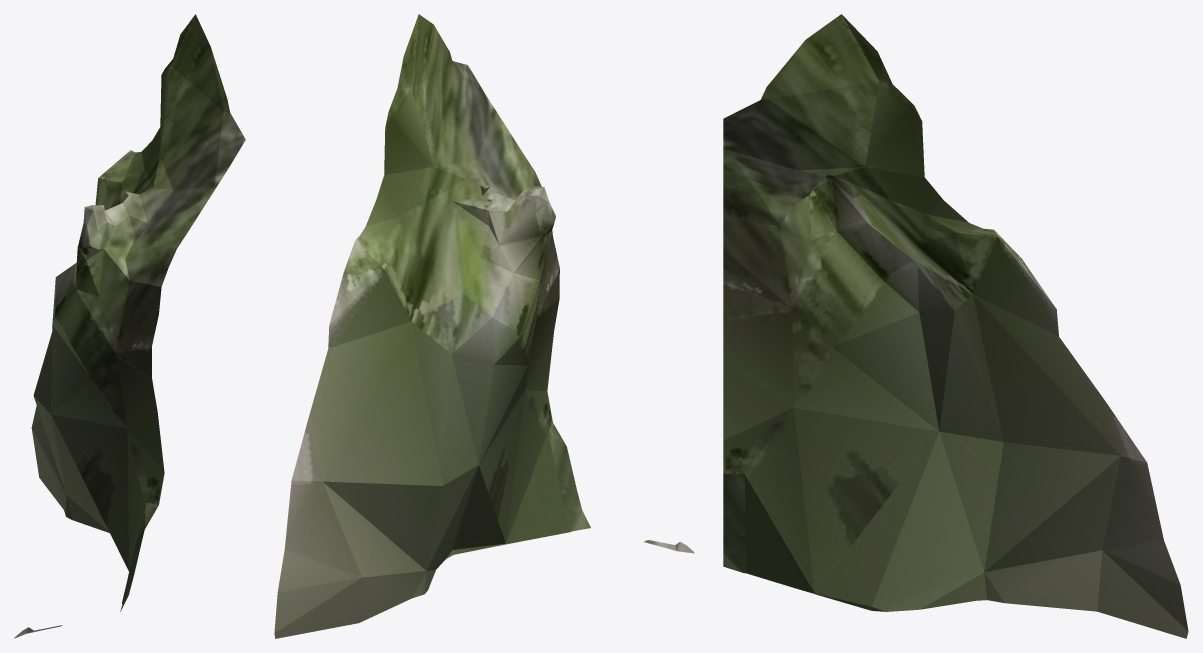
The picture shows the model from 3 angles, left to right: view 1: azimuth 30°, elevation 25°; view 2: azimuth 150°, elevation 25°; view 3: azimuth 270°, elevation 25°; orthographic projection. The views are drawn at different scales.
Bounding box in the file's own units: 1.16 × 2.54 × 1.71.
Materials: 1 (1 with a texture image).
